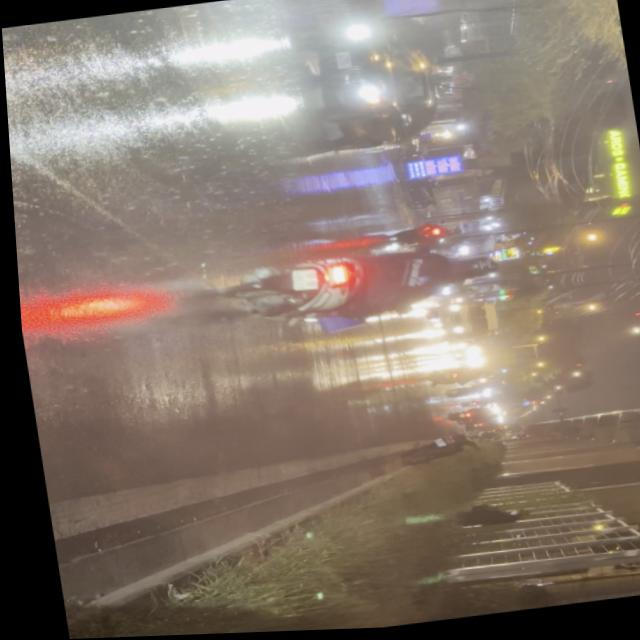helmet: (451, 254, 496, 282)
licenseplate: (212, 231, 505, 343)
nohelmet: (286, 267, 316, 292)
